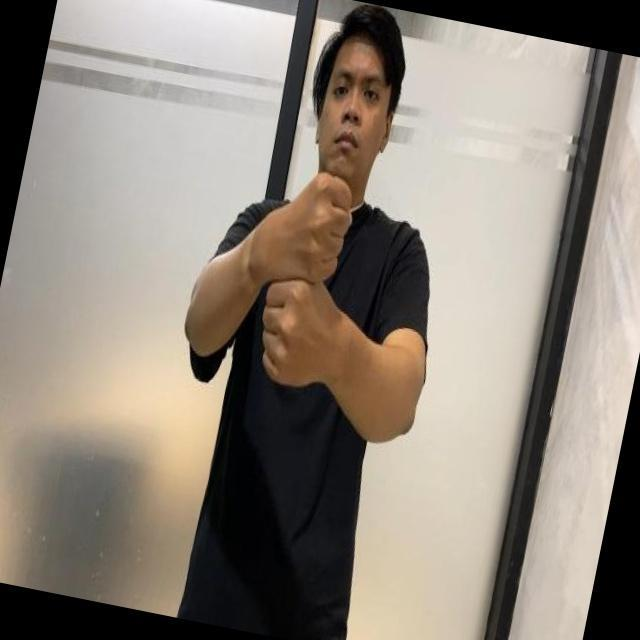G: (240, 153, 364, 394)
